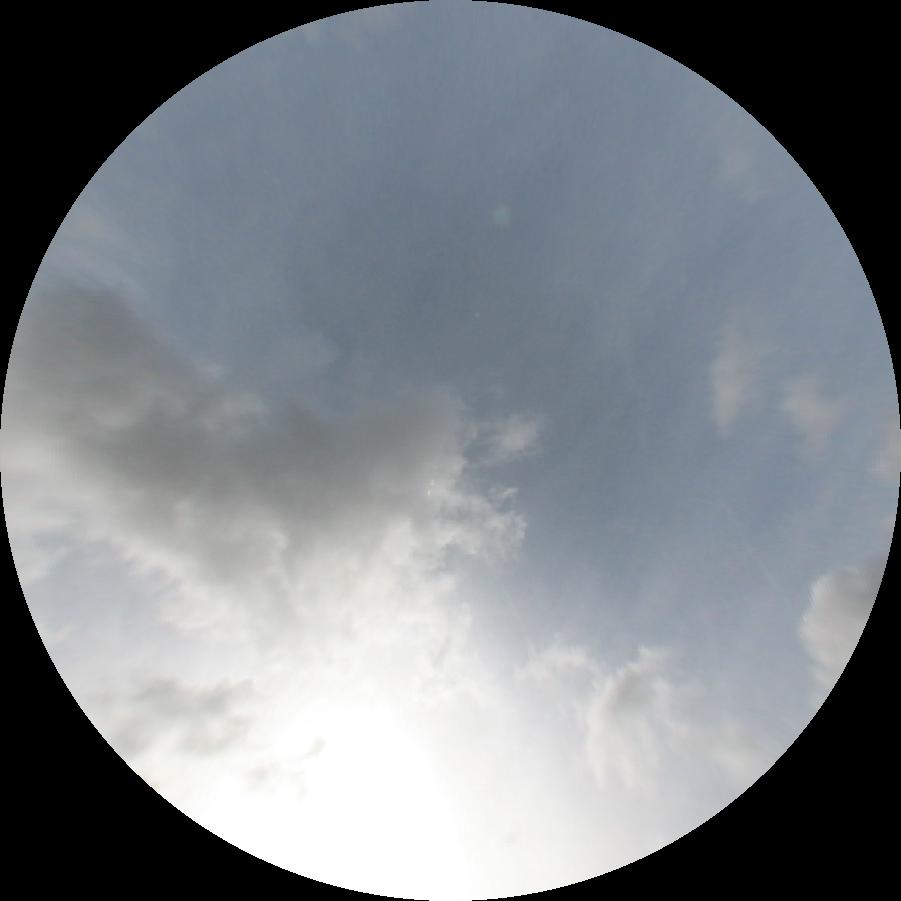contrail old: (721, 506, 797, 620), (496, 573, 537, 661)
sun: (187, 677, 528, 901)
